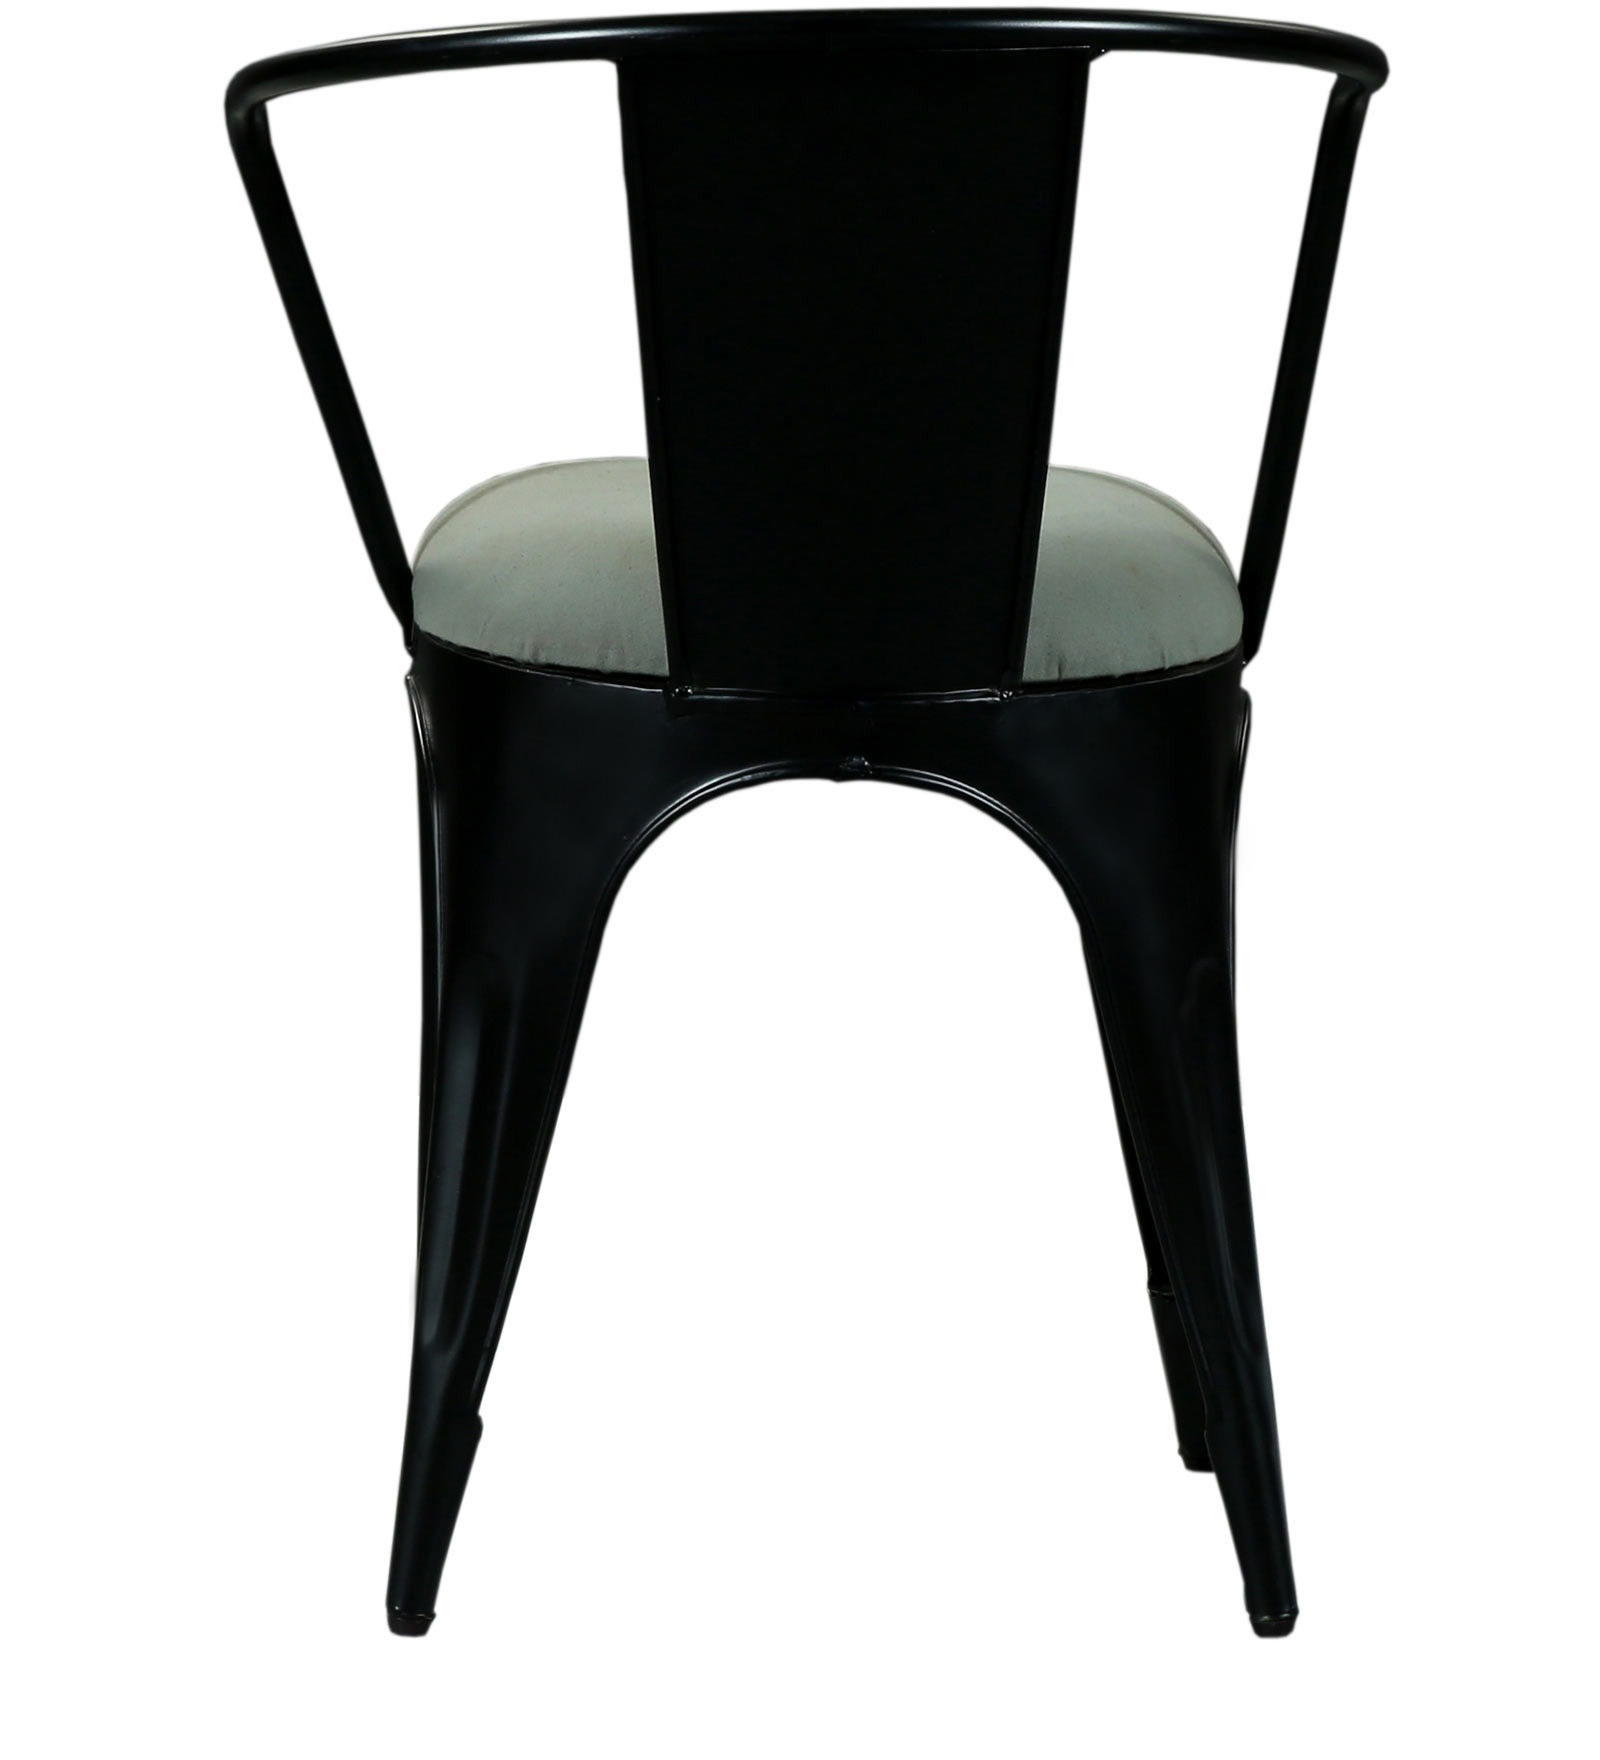Danlou Metal Chair with Cushion in Black Colour by Bohemiana: (156, 9, 1408, 1696)
